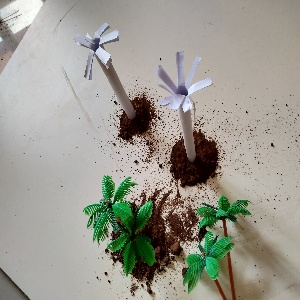plant: (84, 179, 168, 283), (182, 194, 249, 289)
weed: (149, 53, 221, 170), (70, 24, 140, 126)
